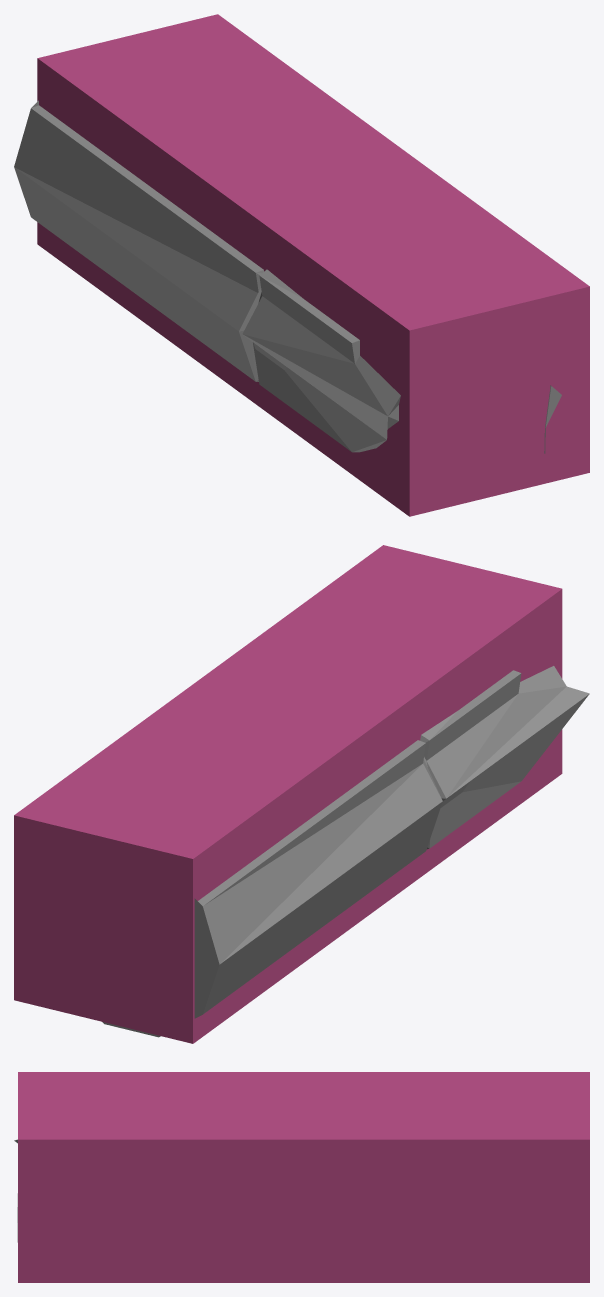
File: ruins_PillarSegment_01.glb
3 renders of one model, top to bottom at view 1: azimuth 30°, elevation 25°; view 2: azimuth 150°, elevation 25°; view 3: azimuth 270°, elevation 25°, orthographic. The views are drawn at different scales.
Parts seen in each view (by area): view 1: geometry_0; view 2: geometry_0; view 3: geometry_0.
Part boxes in pixels (bbox=[...]): geometry_0: bbox=[14, 14, 589, 516]; geometry_0: bbox=[14, 545, 589, 1043]; geometry_0: bbox=[14, 1072, 589, 1282].
Size of the model in its own units: 0.3696 by 0.3259 by 1.17.
